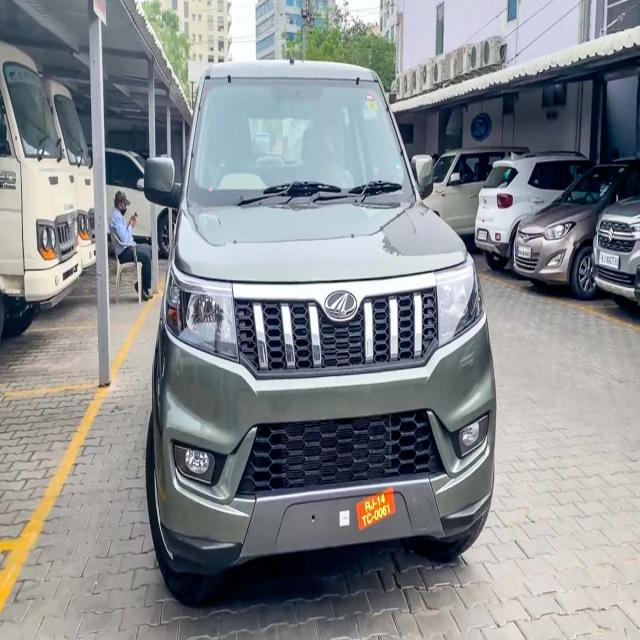light_vehicle: (168, 55, 488, 593)
